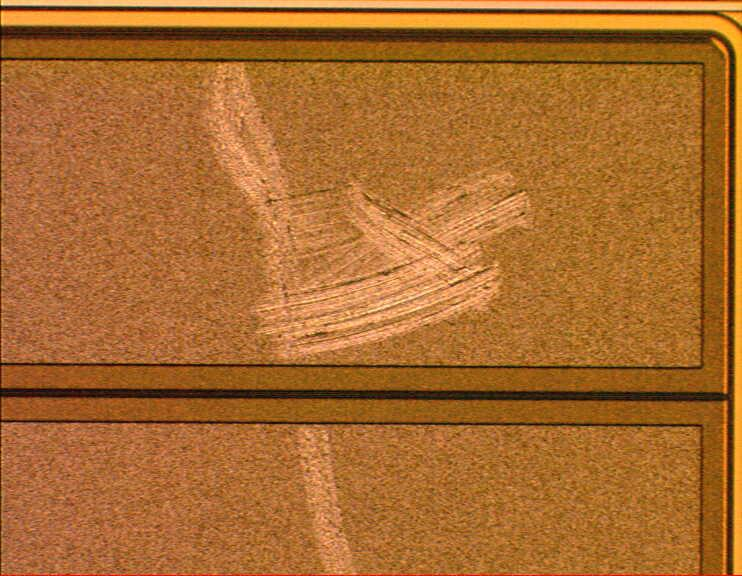SCRATCH: (194, 50, 543, 576)
